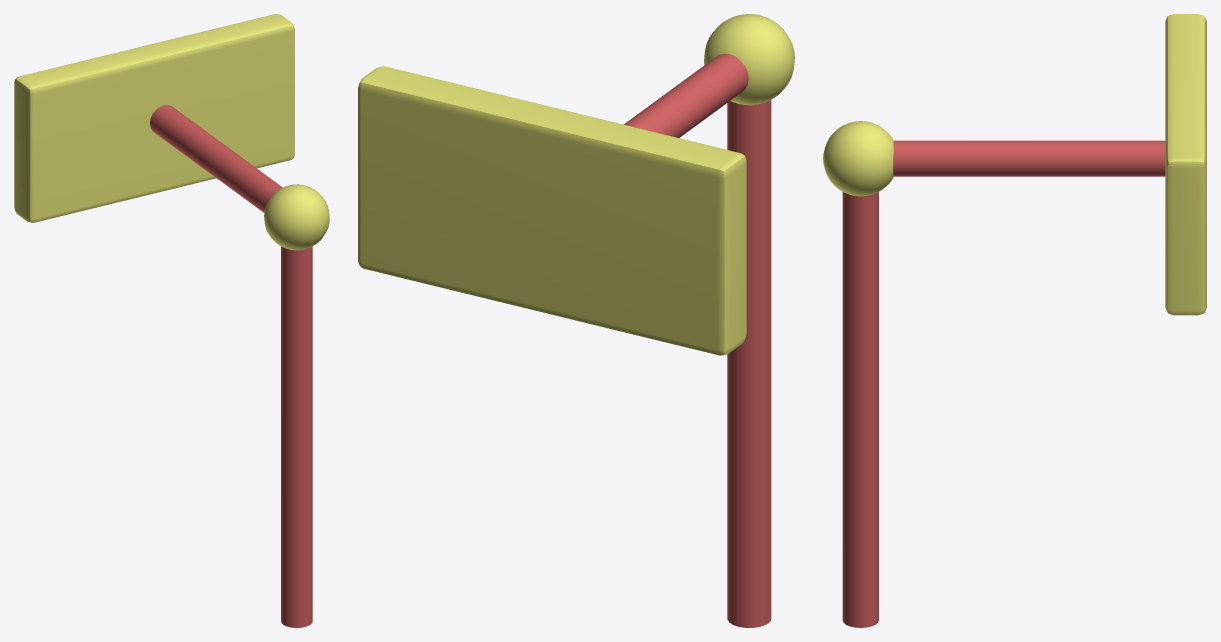
The model's file is Obstacle09.fbx.
3 renders of one model, left to right at view 1: azimuth 30°, elevation 25°; view 2: azimuth 150°, elevation 25°; view 3: azimuth 270°, elevation 25°, orthographic. The views are drawn at different scales.
Parts seen in each view (by area): view 1: Plaque_msh, Barre01_msh, Barre02_msh, Joint_msh; view 2: Plaque_msh, Barre01_msh, Joint_msh, Barre02_msh; view 3: Barre01_msh, Plaque_msh, Barre02_msh, Joint_msh.
Boxes of the visible parts, x1,y1,x2,y2 form: Plaque_msh: (14, 14, 294, 222); Barre01_msh: (281, 246, 312, 627); Barre02_msh: (150, 105, 282, 212); Joint_msh: (264, 184, 329, 250); Plaque_msh: (358, 66, 746, 355); Barre01_msh: (727, 100, 771, 627); Joint_msh: (704, 14, 794, 105); Barre02_msh: (624, 53, 748, 137); Barre01_msh: (842, 192, 878, 627); Plaque_msh: (1165, 14, 1206, 315); Barre02_msh: (893, 140, 1165, 176); Joint_msh: (823, 121, 893, 196).
Bounding box in the file's own units: 4.52 × 7.54 × 4.91.
